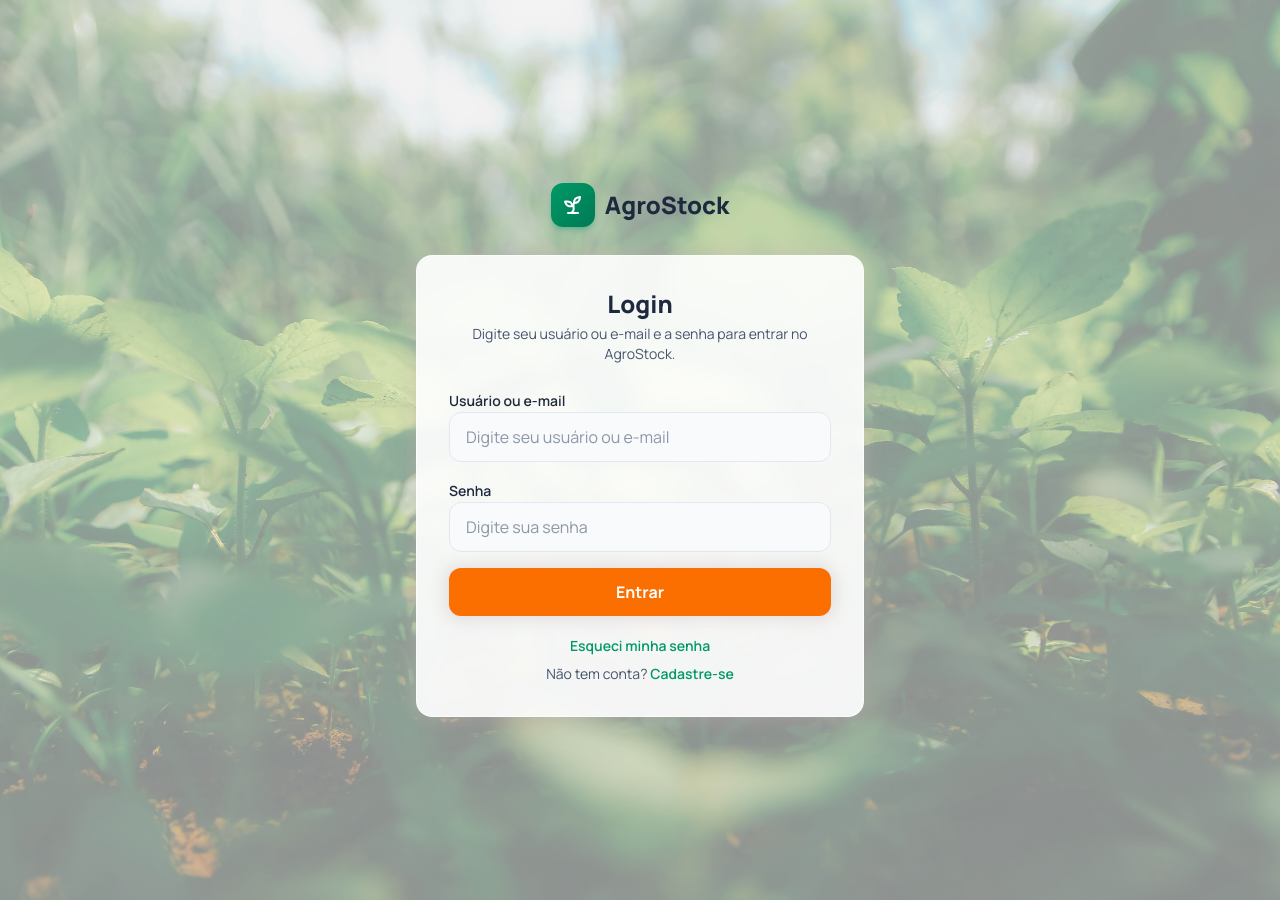
Login › F16 senha errada mostra a mensagem da API e permanece na tela
Type "maria" into the field labelled "Usuário ou e-mail" at (640, 437), box [449,412,831,462]
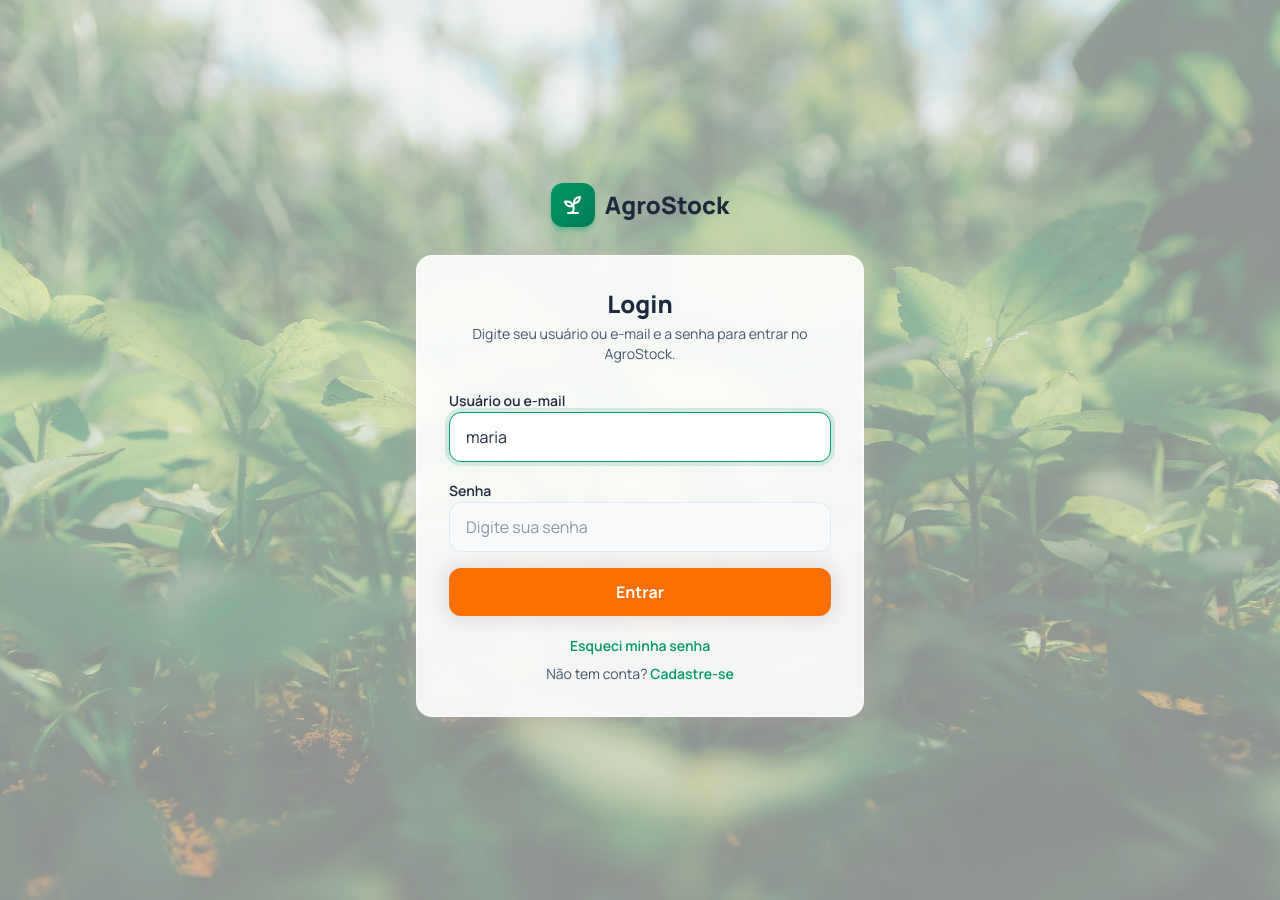
Type "errada123" into the password field labelled "Senha" at (640, 527), box [449,502,831,552]
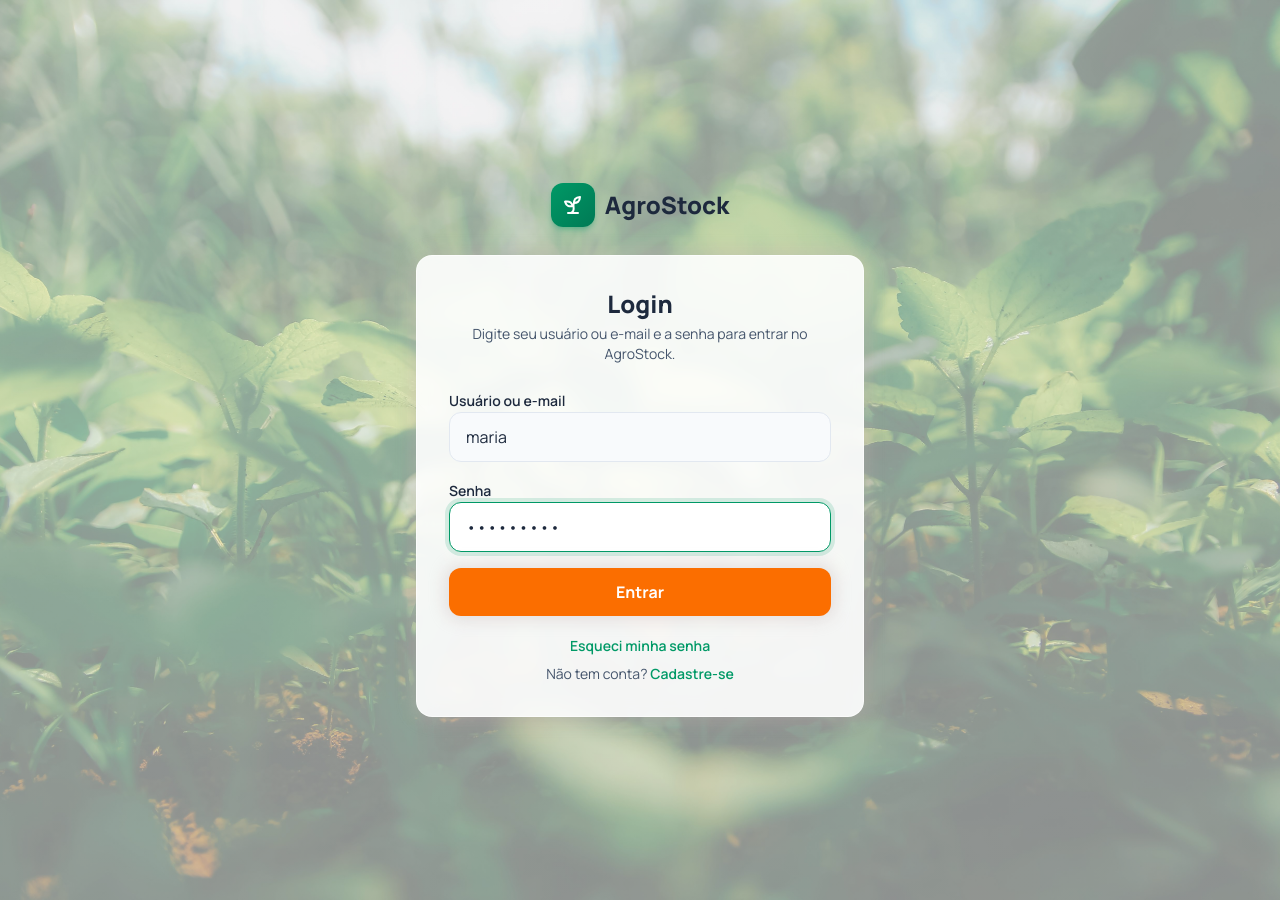
Click the button "Entrar" at (640, 592), box [449,568,831,616]
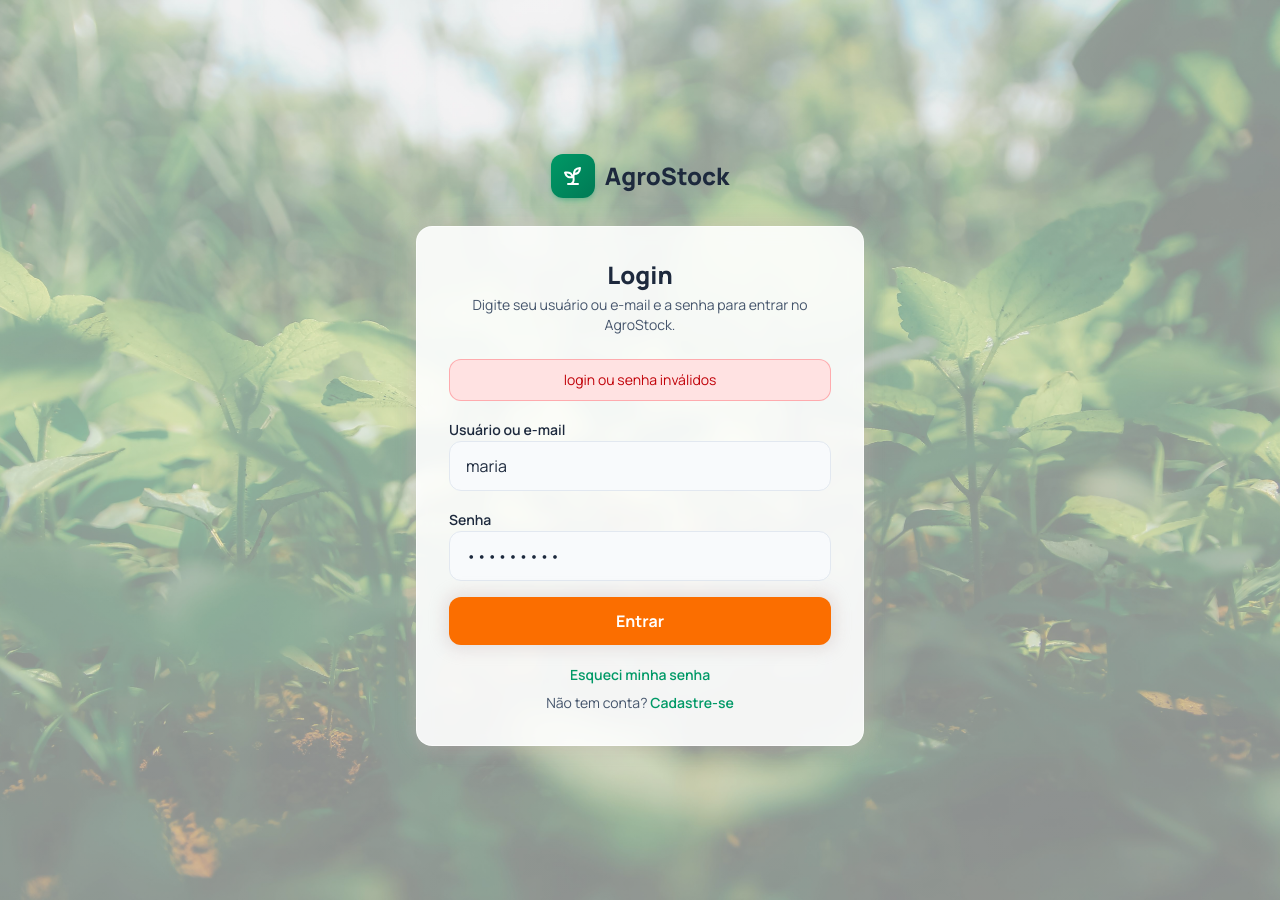
Expected: the text "login ou senha inválidos" is shown, [449,359,831,401]
